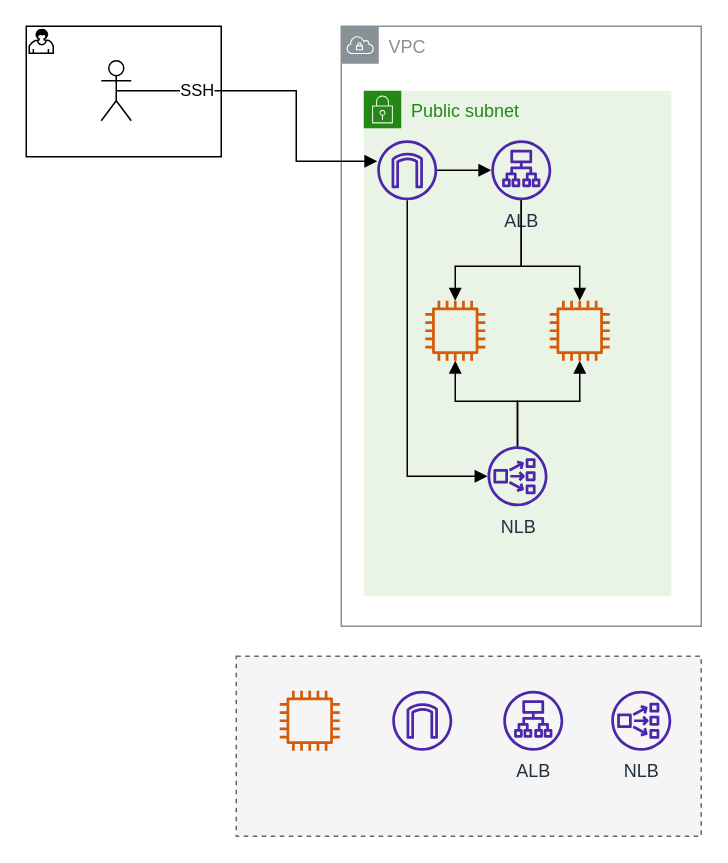
Image size: 728x863. Some labels were removed from this diagram. The centre of each missing label's shape, as x and y in pixels:
"EC2" goes at (309,720).
"Internet Gateway" goes at (422,720).
